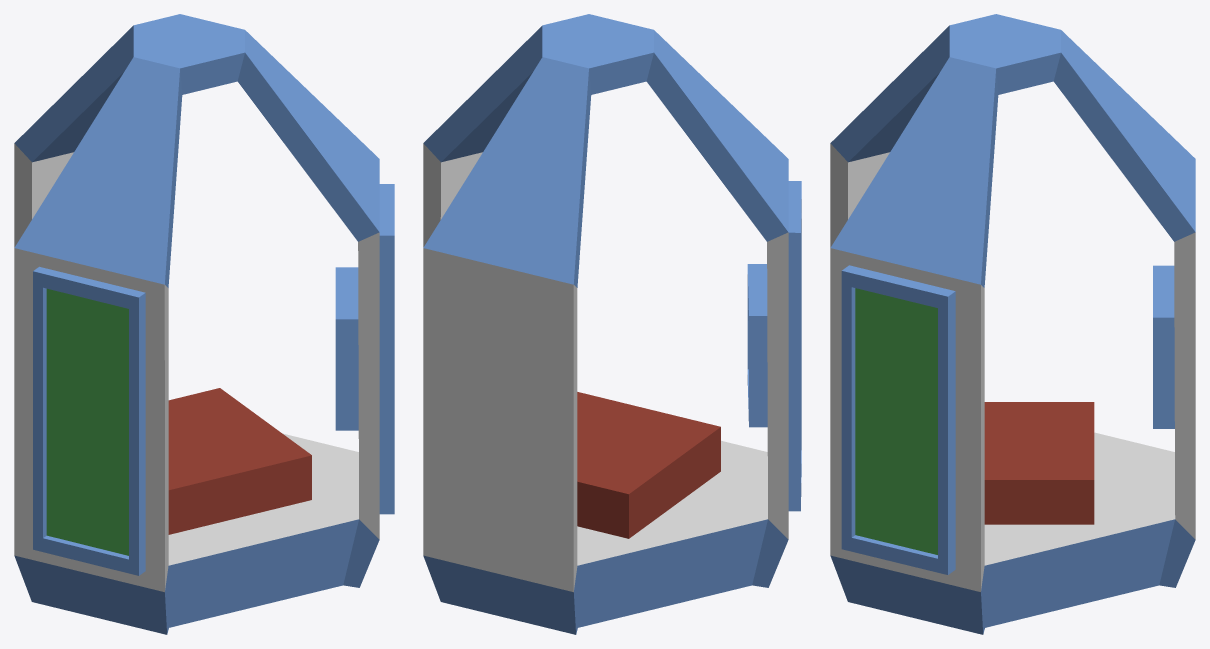
File: Droppod.fbx
The picture shows the model from 3 angles, left to right: view 1: azimuth 30°, elevation 25°; view 2: azimuth 150°, elevation 25°; view 3: azimuth 270°, elevation 25°; orthographic projection.
Parts seen in each view (by area): view 1: Droppod Main, Light 1.002, Seat, Light 1.001, Light 1; view 2: Droppod Main, Seat, Light 1.002, Light; view 3: Droppod Main, Light 1.001, Seat, Light 2.
Part boxes in pixels (left/top/right/bottom): Droppod Main: left=14, top=14, right=379, bottom=634; Light 1.002: left=33, top=266, right=145, bottom=575; Seat: left=168, top=388, right=311, bottom=534; Light 1.001: left=379, top=184, right=394, bottom=514; Light 1: left=335, top=267, right=358, bottom=430; Droppod Main: left=423, top=14, right=788, bottom=634; Seat: left=577, top=392, right=720, bottom=538; Light 1.002: left=788, top=181, right=801, bottom=511; Light: left=747, top=264, right=767, bottom=427; Droppod Main: left=830, top=14, right=1195, bottom=634; Light 1.001: left=841, top=265, right=955, bottom=574; Seat: left=984, top=402, right=1094, bottom=524; Light 2: left=1153, top=265, right=1174, bottom=428.
Bounding box in the file's own units: 137 × 185 × 119.
